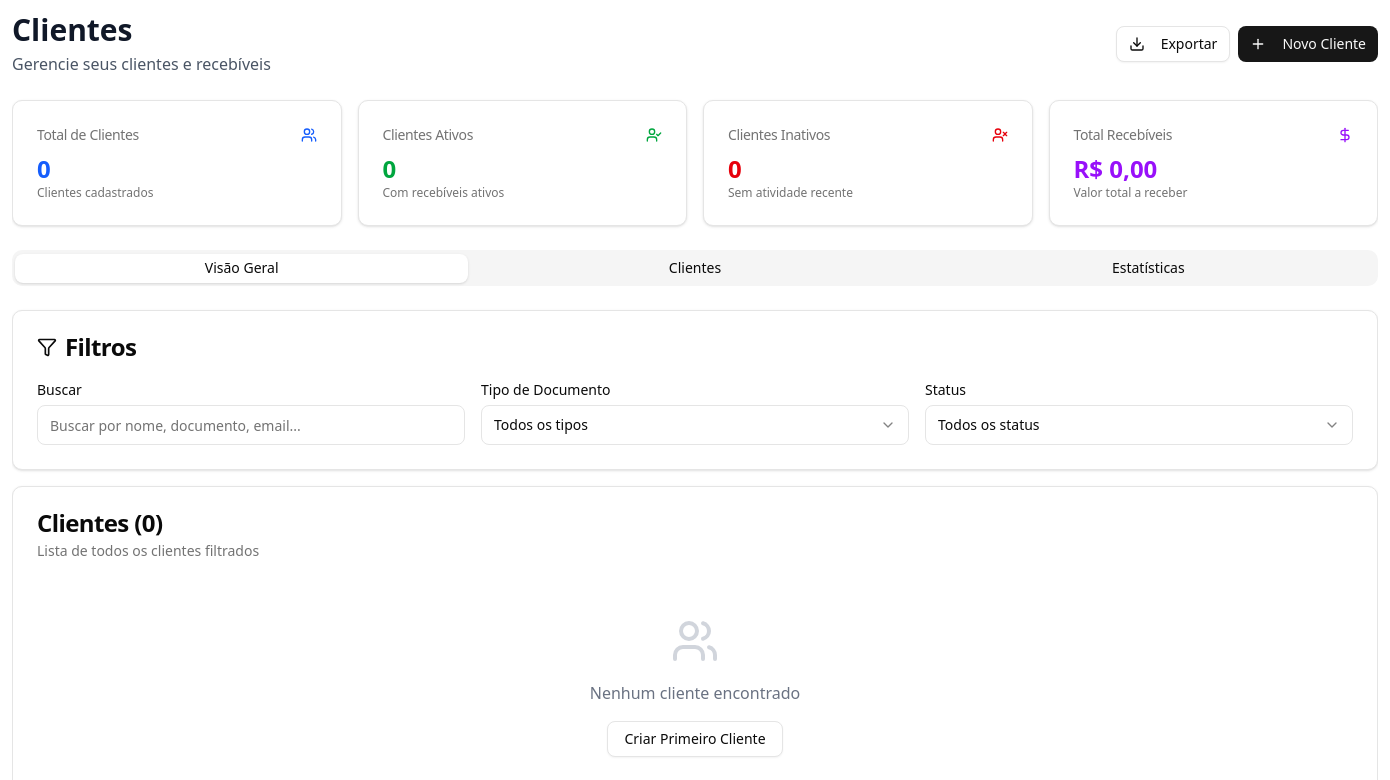
Scenario: Customers Page › Funcionalidades de Cliente › deve permitir filtrar por status
Step 1. Click the dropdown "Todos os status" → (989, 424), box [925,405,1353,445]
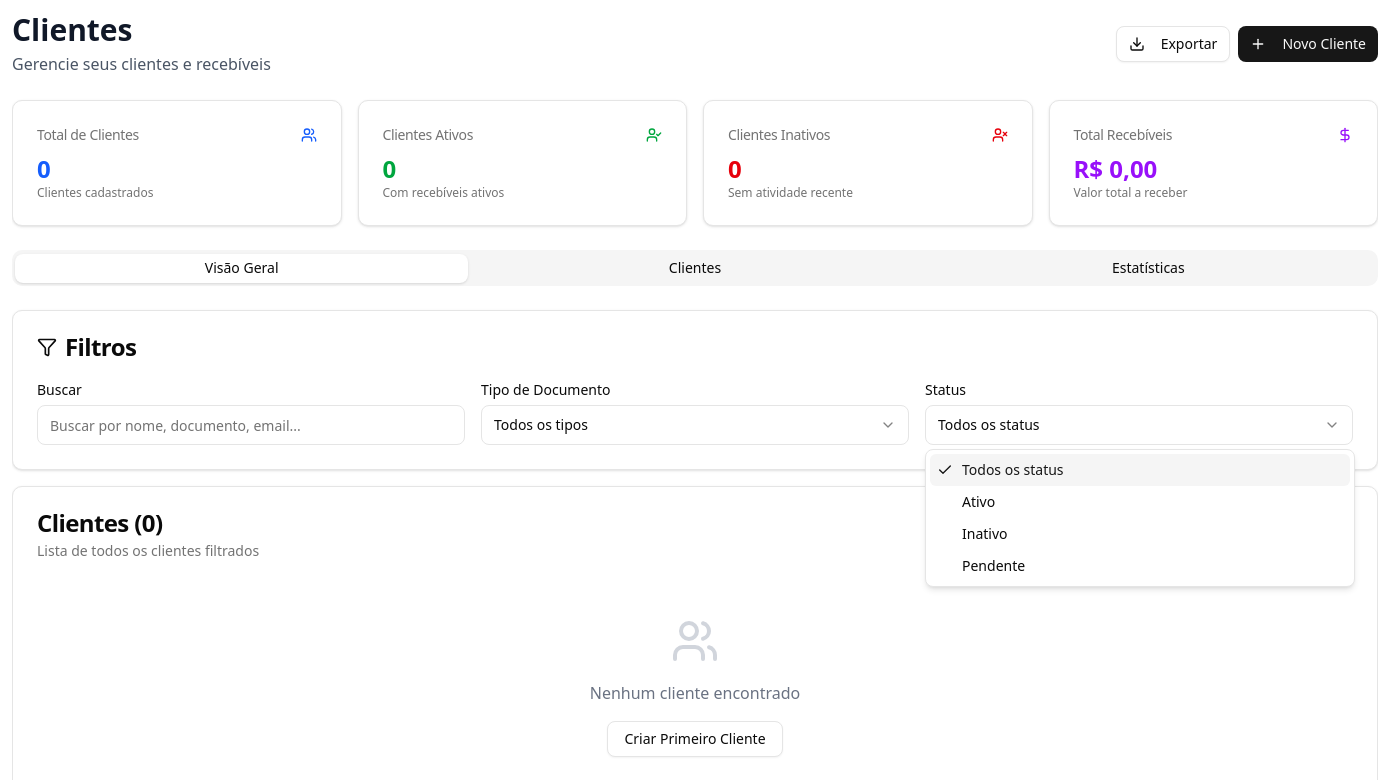
expect the text "Ativo" is shown: met, box [962,492,995,512]
expect the text "Inativo" is shown: met, box [962,524,1008,544]
expect the text "Pendente" is shown: met, box [962,556,1025,576]
